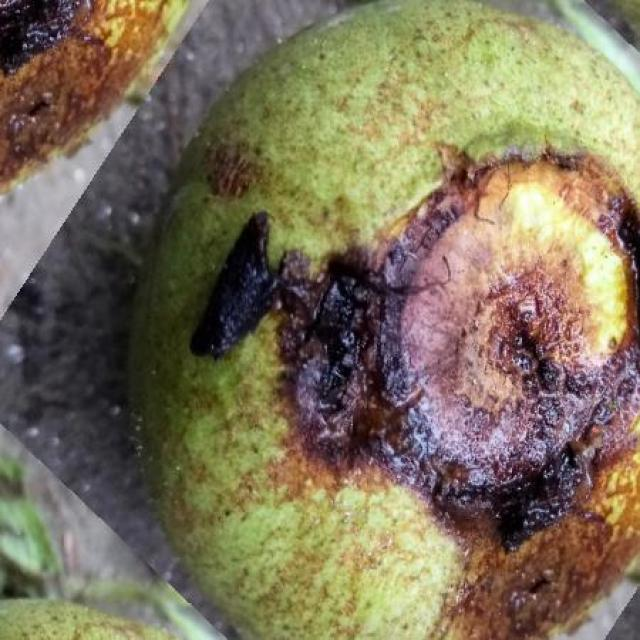Styler and Root: (135, 0, 640, 640), (0, 0, 188, 193)
